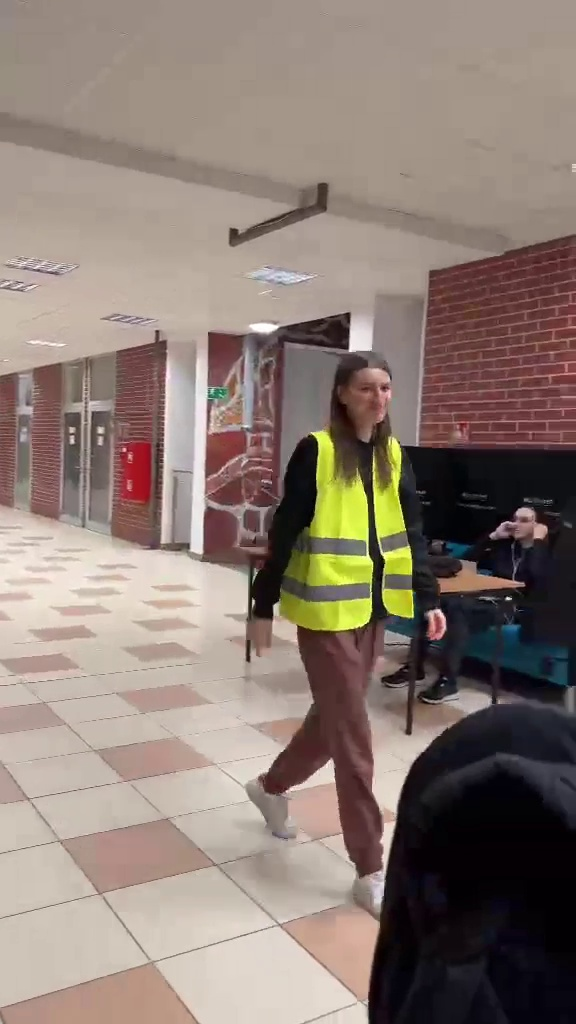no vest: (415, 505, 570, 707)
vest: (240, 342, 449, 924)
